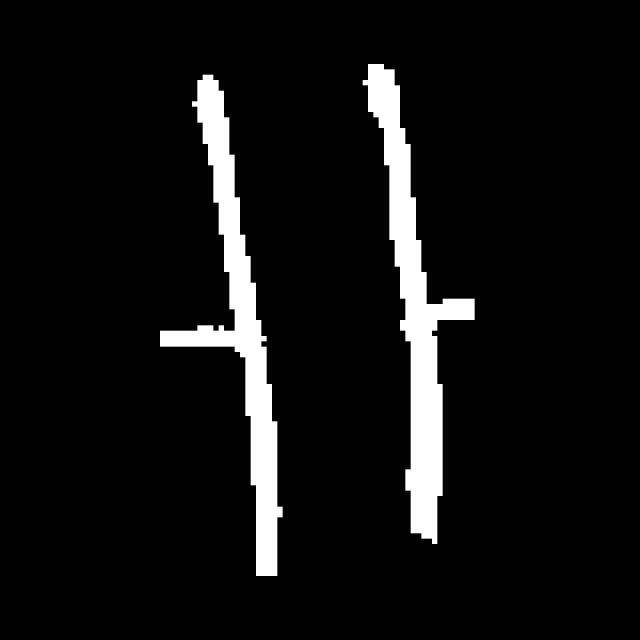capacitor: (180, 37, 458, 587)
